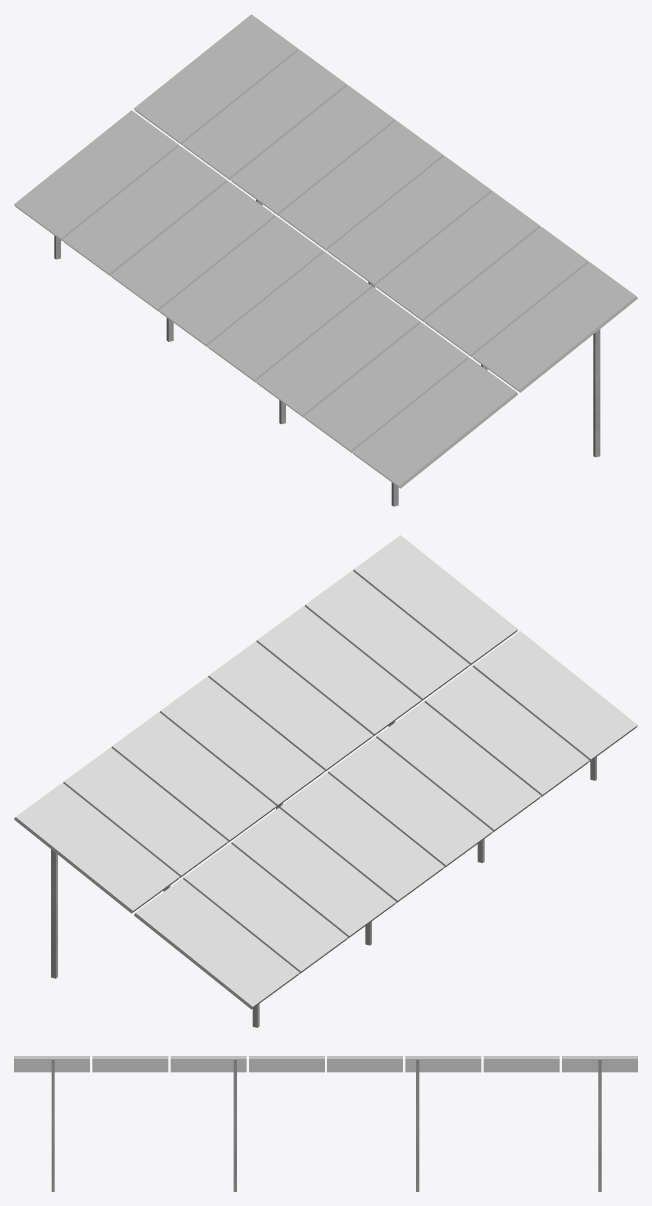
Rendered from 4kWp_groundmount.glb.
3 views of the same model, one above another, from view 1: azimuth 30°, elevation 25°; view 2: azimuth 150°, elevation 25°; view 3: azimuth 270°, elevation 25° (orthographic). The views are drawn at different scales.
Visible parts, largest first — view 1: instance_9.001, instance_0, Steher_Paar.010; view 2: instance_9.001, instance_0, Steher_Paar.010; view 3: instance_0, Steher_Paar.010.
Part boxes in pixels (x1=…): instance_9.001: x1=14, y1=14, x2=635, y2=485; instance_0: x1=14, y1=49, x2=637, y2=488; Steher_Paar.010: x1=54, y1=199, x2=600, y2=506; instance_9.001: x1=16, y1=535, x2=637, y2=1006; instance_0: x1=14, y1=569, x2=637, y2=1009; Steher_Paar.010: x1=51, y1=721, x2=596, y2=1027; instance_0: x1=14, y1=1056, x2=637, y2=1072; Steher_Paar.010: x1=51, y1=1060, x2=601, y2=1191.
Size of the model in its own units: 2.94 by 2.05 by 8.21.
2 materials, 1 textured.
